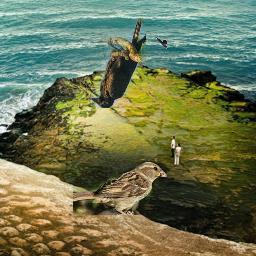Crow: (92, 20, 147, 109), (156, 37, 169, 50)
Sparrow: (73, 161, 167, 215)
